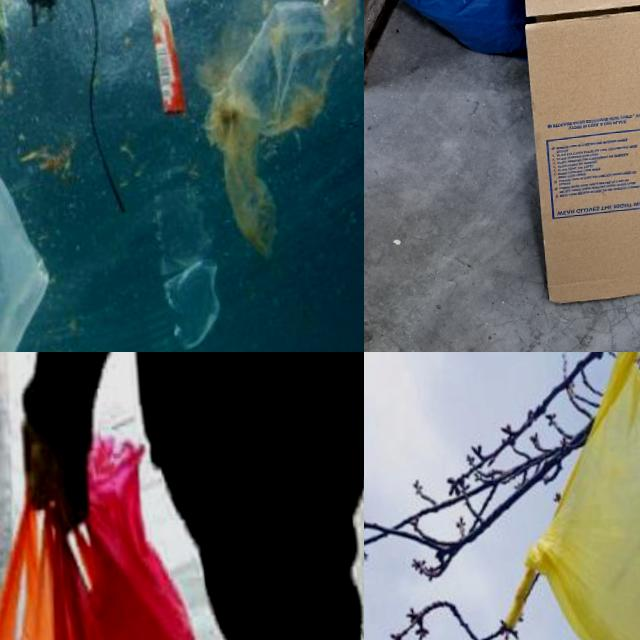papelão: (509, 0, 640, 305)
sacola plástica: (484, 352, 640, 640), (47, 445, 254, 640), (0, 503, 103, 640), (364, 0, 534, 68)
